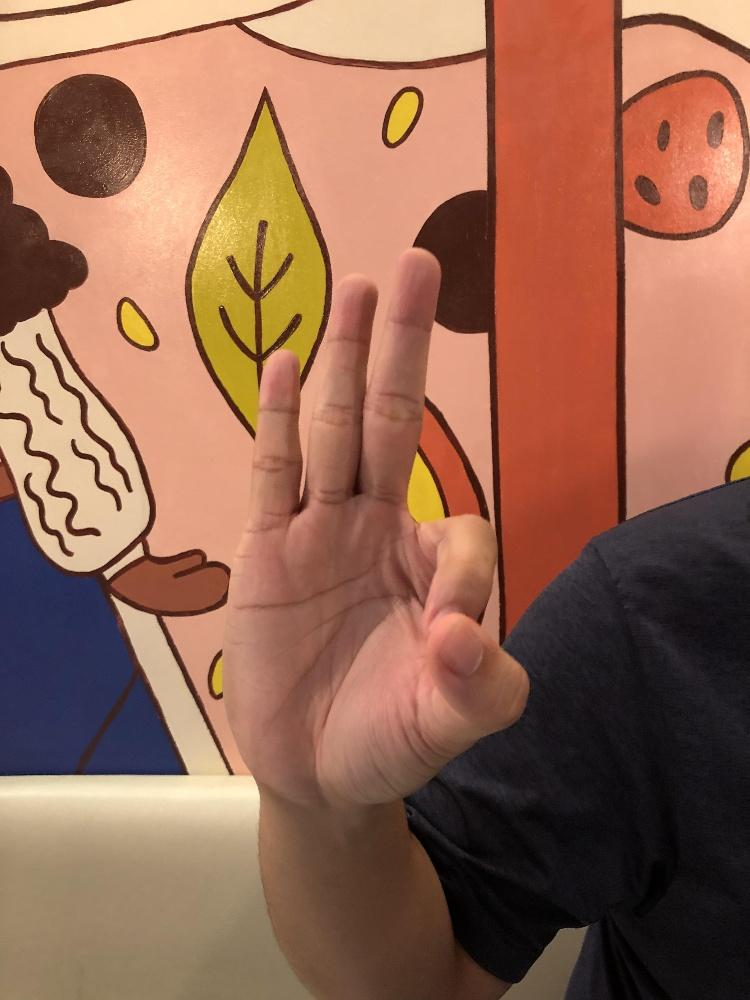f: (219, 244, 532, 809)
